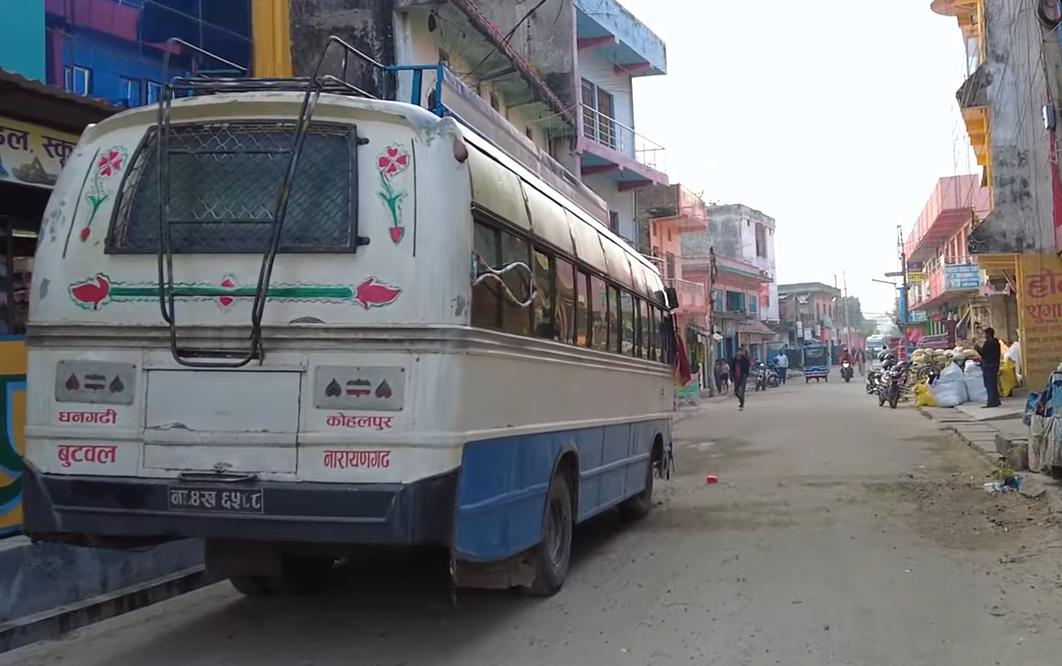bus: (8, 63, 682, 587)
